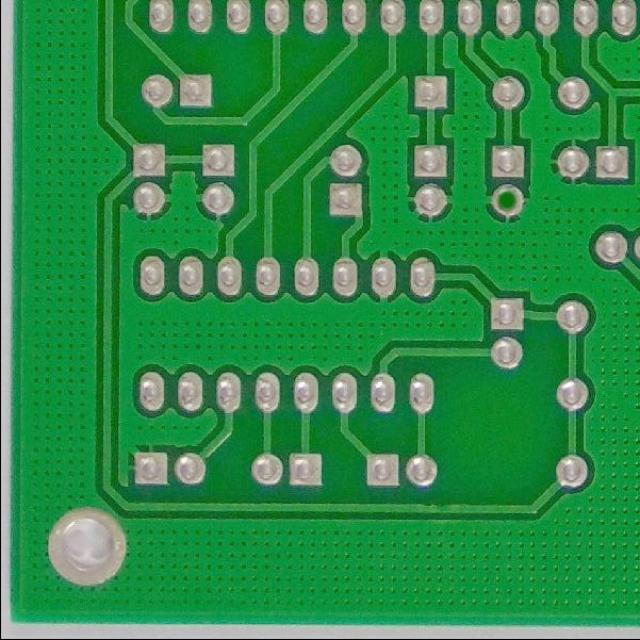missing_hole: (488, 193, 525, 218)
